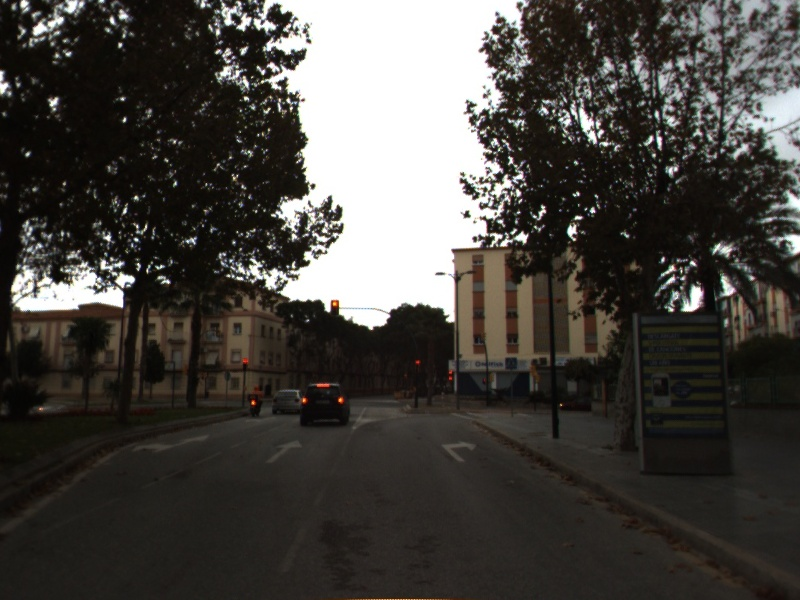RIGHT: (438, 438, 479, 464)
STRAIGHT: (262, 436, 305, 465)
STRAIGHT_LEFT: (129, 432, 214, 455)
